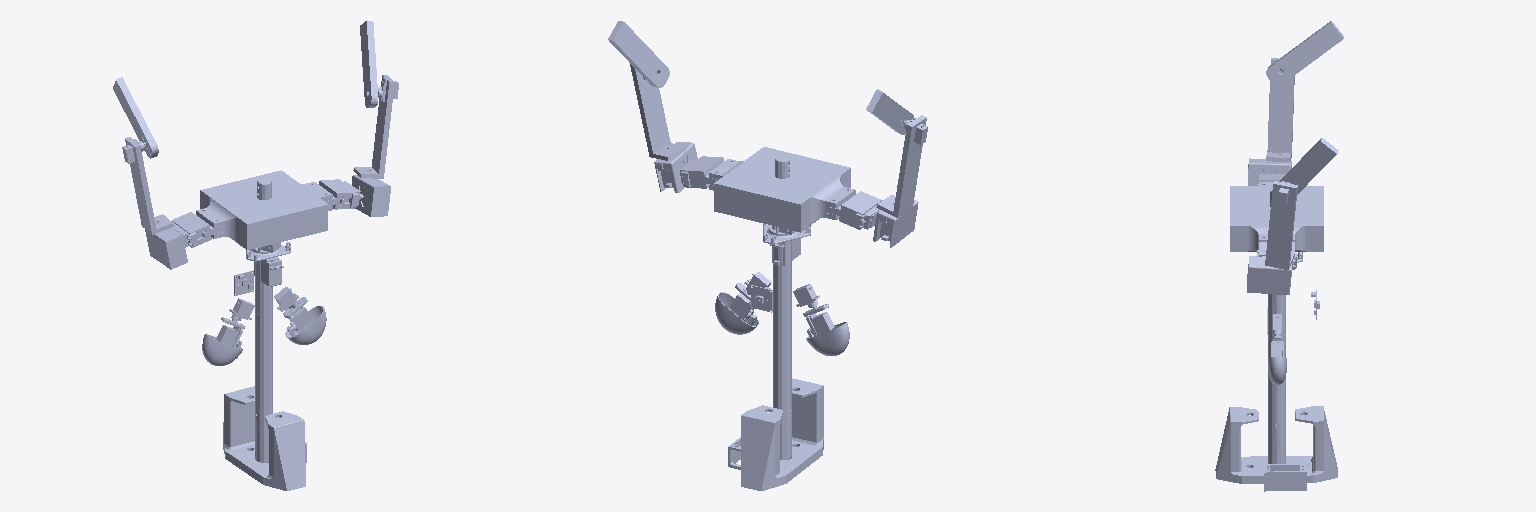
robot.urdf — bearmax_description:
<?xml version="1.0" encoding="utf-8"?>
<!-- This URDF was automatically created by SolidWorks to URDF Exporter! Originally created by [author] ([email redacted]) 
     Commit Version: 1.6.0-4-g7f85cfe  Build Version: 1.6.7995.38578
     For more information, please see http://wiki.ros.org/sw_urdf_exporter -->
<robot
  name="bearmax_description">
  <link
    name="base_link">
    <inertial>
      <origin
        xyz="-0.17187 0.041344 0.40096"
        rpy="0 0 0" />
      <mass
        value="0.50183" />
      <inertia
        ixx="0.0012683"
        ixy="9.452E-06"
        ixz="-1.8359E-05"
        iyy="0.0011449"
        iyz="-2.4791E-06"
        izz="0.0003814" />
    </inertial>
    <visual>
      <origin
        xyz="0 0 0"
        rpy="0 0 0" />
      <geometry>
        <mesh
          filename="package://bearmax_description/meshes/base_link.STL" />
      </geometry>
      <material
        name="">
        <color
          rgba="0.79216 0.81961 0.93333 1" />
      </material>
    </visual>
    <collision>
      <origin
        xyz="0 0 0"
        rpy="0 0 0" />
      <geometry>
        <mesh
          filename="package://bearmax_description/meshes/base_link.STL" />
      </geometry>
    </collision>
  </link>
  <link
    name="chassis_link">
    <inertial>
      <origin
        xyz="2.0524E-09 0.19976 9.8855E-09"
        rpy="0 0 0" />
      <mass
        value="0.057634" />
      <inertia
        ixx="0.00076957"
        ixy="-5.5733E-12"
        ixz="2.353E-12"
        iyy="7.6799E-06"
        iyz="-6.8567E-11"
        izz="0.00076959" />
    </inertial>
    <visual>
      <origin
        xyz="0 0 0"
        rpy="0 0 0" />
      <geometry>
        <mesh
          filename="package://bearmax_description/meshes/chassis_link.STL" />
      </geometry>
      <material
        name="">
        <color
          rgba="0.79216 0.81961 0.93333 1" />
      </material>
    </visual>
    <collision>
      <origin
        xyz="0 0 0"
        rpy="0 0 0" />
      <geometry>
        <mesh
          filename="package://bearmax_description/meshes/chassis_link.STL" />
      </geometry>
    </collision>
  </link>
  <joint
    name="chassis_joint"
    type="revolute">
    <origin
      xyz="-0.17961 -0.40208 0.012"
      rpy="1.5708 0 1.5708" />
    <parent
      link="base_link" />
    <child
      link="chassis_link" />
    <axis
      xyz="0 1 0" />
    <limit
      lower="-1.57"
      upper="1.57"
      effort="10"
      velocity="100" />
  </joint>
  <link
    name="torso_link">
    <inertial>
      <origin
        xyz="-0.032811 0.026124 -0.043368"
        rpy="0 0 0" />
      <mass
        value="2.6697" />
      <inertia
        ixx="0.0040411"
        ixy="-1.5861E-08"
        ixz="1.3582E-07"
        iyy="0.0069722"
        iyz="-2.7575E-08"
        izz="0.003713" />
    </inertial>
    <visual>
      <origin
        xyz="0 0 0"
        rpy="0 0 0" />
      <geometry>
        <mesh
          filename="package://bearmax_description/meshes/torso_link.STL" />
      </geometry>
      <material
        name="">
        <color
          rgba="0.79216 0.81961 0.93333 1" />
      </material>
    </visual>
    <collision>
      <origin
        xyz="0 0 0"
        rpy="0 0 0" />
      <geometry>
        <mesh
          filename="package://bearmax_description/meshes/torso_link.STL" />
      </geometry>
    </collision>
  </link>
  <joint
    name="torso_joint"
    type="fixed">
    <origin
      xyz="0 0.4005 0"
      rpy="3.1416 -1.5708 0" />
    <parent
      link="chassis_link" />
    <child
      link="torso_link" />
    <axis
      xyz="0 0 0" />
  </joint>
  <link
    name="left_arm_shoulder_link">
    <inertial>
      <origin
        xyz="0.0012848 -0.037721 -0.00075821"
        rpy="0 0 0" />
      <mass
        value="0.089647" />
      <inertia
        ixx="2.3078E-05"
        ixy="3.3014E-07"
        ixz="3.3653E-07"
        iyy="3.1141E-05"
        iyz="2.7465E-07"
        izz="1.7517E-05" />
    </inertial>
    <visual>
      <origin
        xyz="0 0 0"
        rpy="0 0 0" />
      <geometry>
        <mesh
          filename="package://bearmax_description/meshes/left_arm_shoulder_link.STL" />
      </geometry>
      <material
        name="">
        <color
          rgba="0.79216 0.81961 0.93333 1" />
      </material>
    </visual>
    <collision>
      <origin
        xyz="0 0 0"
        rpy="0 0 0" />
      <geometry>
        <mesh
          filename="package://bearmax_description/meshes/left_arm_shoulder_link.STL" />
      </geometry>
    </collision>
  </link>
  <joint
    name="left_arm_shoulder_joint"
    type="revolute">
    <origin
      xyz="0.1153 0.022388 -0.010325"
      rpy="3.1416 -0.080918 -1.3963" />
    <parent
      link="torso_link" />
    <child
      link="left_arm_shoulder_link" />
    <axis
      xyz="0 1 0" />
    <limit
      lower="-1.57"
      upper="1.57"
      effort="10"
      velocity="100" />
  </joint>
  <link
    name="left_arm_rotator_link">
    <inertial>
      <origin
        xyz="-0.065761 0.10061 -0.029311"
        rpy="0 0 0" />
      <mass
        value="0.055975" />
      <inertia
        ixx="7.2471E-05"
        ixy="2.8953E-06"
        ixz="9.0062E-07"
        iyy="6.858E-06"
        iyz="2.8953E-06"
        izz="7.2471E-05" />
    </inertial>
    <visual>
      <origin
        xyz="0 0 0"
        rpy="0 0 0" />
      <geometry>
        <mesh
          filename="package://bearmax_description/meshes/left_arm_rotator_link.STL" />
      </geometry>
      <material
        name="">
        <color
          rgba="0.79216 0.81961 0.93333 1" />
      </material>
    </visual>
    <collision>
      <origin
        xyz="0 0 0"
        rpy="0 0 0" />
      <geometry>
        <mesh
          filename="package://bearmax_description/meshes/left_arm_rotator_link.STL" />
      </geometry>
    </collision>
  </link>
  <joint
    name="left_arm_rotator_joint"
    type="revolute">
    <origin
      xyz="0 0.01 0"
      rpy="3.1416 -0.54847 1.5708" />
    <parent
      link="left_arm_shoulder_link" />
    <child
      link="left_arm_rotator_link" />
    <axis
      xyz="0 1 0" />
    <limit
      lower="-1.57"
      upper="1.57"
      effort="10"
      velocity="100" />
  </joint>
  <link
    name="left_arm_elbow_link">
    <inertial>
      <origin
        xyz="0.174014666767699 -0.0223949045310038 0.0591303961422717"
        rpy="0 0 0" />
      <mass
        value="0.0356564342065887" />
      <inertia
        ixx="2.91755755317523E-06"
        ixy="5.70063169883685E-08"
        ixz="4.98690647695969E-20"
        iyy="4.3073139448888E-05"
        iyz="-5.9292306307801E-21"
        izz="4.0731009181031E-05" />
    </inertial>
    <visual>
      <origin
        xyz="0 0 0"
        rpy="0 0 0" />
      <geometry>
        <mesh
          filename="package://bearmax_description/meshes/left_arm_elbow_link.STL" />
      </geometry>
      <material
        name="">
        <color
          rgba="0.792156862745098 0.819607843137255 0.933333333333333 1" />
      </material>
    </visual>
    <collision>
      <origin
        xyz="0 0 0"
        rpy="0 0 0" />
      <geometry>
        <mesh
          filename="package://bearmax_description/meshes/left_arm_elbow_link.STL" />
      </geometry>
    </collision>
  </link>
  <joint
    name="left_arm_elbow_joint"
    type="revolute">
    <origin
      xyz="-0.020548 0 -0.012555"
      rpy="2.2751 -0.38212 1.9844" />
    <parent
      link="left_arm_rotator_link" />
    <child
      link="left_arm_elbow_link" />
    <axis
      xyz="0 1 0" />
    <limit
      lower="-1.57"
      upper="1.57"
      effort="10"
      velocity="100" />
  </joint>
  <link
    name="right_arm_shoulder_link">
    <inertial>
      <origin
        xyz="0.00074988 0.0012707 -0.018533"
        rpy="0 0 0" />
      <mass
        value="0.090643" />
      <inertia
        ixx="1.756E-05"
        ixy="-3.3653E-07"
        ixz="-2.7465E-07"
        iyy="2.312E-05"
        iyz="3.3014E-07"
        izz="3.1224E-05" />
    </inertial>
    <visual>
      <origin
        xyz="0 0 0"
        rpy="0 0 0" />
      <geometry>
        <mesh
          filename="package://bearmax_description/meshes/right_arm_shoulder_link.STL" />
      </geometry>
      <material
        name="">
        <color
          rgba="0.79216 0.81961 0.93333 1" />
      </material>
    </visual>
    <collision>
      <origin
        xyz="0 0 0"
        rpy="0 0 0" />
      <geometry>
        <mesh
          filename="package://bearmax_description/meshes/right_arm_shoulder_link.STL" />
      </geometry>
    </collision>
  </link>
  <joint
    name="right_arm_shoulder_joint"
    type="revolute">
    <origin
      xyz="-0.14497 0.027824 -0.0102"
      rpy="1.5708 -1.5367 1.3963" />
    <parent
      link="torso_link" />
    <child
      link="right_arm_shoulder_link" />
    <axis
      xyz="0 1 0" />
    <limit
      lower="-1.57"
      upper="1.57"
      effort="10"
      velocity="100" />
  </joint>
  <link
    name="right_arm_rotator_link">
    <inertial>
      <origin
        xyz="0.00821004209420206 -0.0688462147120627 -0.00821004209420173"
        rpy="0 0 0" />
      <mass
        value="0.05597466334379" />
      <inertia
        ixx="7.247118652597E-05"
        ixy="2.83145992905539E-06"
        ixz="-9.00615014902901E-07"
        iyy="6.85800622969299E-06"
        iyz="-2.83145992905515E-06"
        izz="7.247118652597E-05" />
    </inertial>
    <visual>
      <origin
        xyz="0 0 0"
        rpy="0 0 0" />
      <geometry>
        <mesh
          filename="package://bearmax_description/meshes/right_arm_rotator_link.STL" />
      </geometry>
      <material
        name="">
        <color
          rgba="0.792156862745098 0.819607843137255 0.933333333333333 1" />
      </material>
    </visual>
    <collision>
      <origin
        xyz="0 0 0"
        rpy="0 0 0" />
      <geometry>
        <mesh
          filename="package://bearmax_description/meshes/right_arm_rotator_link.STL" />
      </geometry>
    </collision>
  </link>
  <joint
    name="right_arm_rotator_joint"
    type="revolute">
    <origin
      xyz="0.012 0.0319 -0.019941"
      rpy="0 0.86598 3.1416" />
    <parent
      link="right_arm_shoulder_link" />
    <child
      link="right_arm_rotator_link" />
    <axis
      xyz="0 1 0" />
    <limit
      lower="-1.57"
      upper="1.57"
      effort="10"
      velocity="100" />
  </joint>
  <link
    name="right_arm_elbow_link">
    <inertial>
      <origin
        xyz="0.0405860587058997 0.00726331258179902 1.66533453693773E-16"
        rpy="0 0 0" />
      <mass
        value="0.0356564342065888" />
      <inertia
        ixx="2.91755755317524E-06"
        ixy="5.7006316988408E-08"
        ixz="2.57286257728494E-20"
        iyy="4.30731394488881E-05"
        iyz="-2.96461531539005E-21"
        izz="4.07310091810311E-05" />
    </inertial>
    <visual>
      <origin
        xyz="0 0 0"
        rpy="0 0 0" />
      <geometry>
        <mesh
          filename="package://bearmax_description/meshes/right_arm_elbow_link.STL" />
      </geometry>
      <material
        name="">
        <color
          rgba="0.792156862745098 0.819607843137255 0.933333333333333 1" />
      </material>
    </visual>
    <collision>
      <origin
        xyz="0 0 0"
        rpy="0 0 0" />
      <geometry>
        <mesh
          filename="package://bearmax_description/meshes/right_arm_elbow_link.STL" />
      </geometry>
    </collision>
  </link>
  <joint
    name="right_arm_elbow_joint"
    type="revolute">
    <origin
      xyz="-0.0018031 -0.123 0.0018031"
      rpy="2.1424 0.57212 -2.2705" />
    <parent
      link="right_arm_rotator_link" />
    <child
      link="right_arm_elbow_link" />
    <axis
      xyz="0 1 0" />
    <limit
      lower="-1.57"
      upper="1.57"
      effort="10"
      velocity="100" />
  </joint>
  <link
    name="head_platform_link">
    <inertial>
      <origin
        xyz="-7.31297958072585E-05 0.0396567026441625 0.00529007551073074"
        rpy="0 0 0" />
      <mass
        value="0.0601949035323982" />
      <inertia
        ixx="1.25623690370595E-05"
        ixy="8.6971770268358E-10"
        ixz="4.06002667064018E-08"
        iyy="1.23679785179065E-05"
        iyz="-6.29137809995314E-08"
        izz="9.6259813450868E-06" />
    </inertial>
    <visual>
      <origin
        xyz="0 0 0"
        rpy="0 0 0" />
      <geometry>
        <mesh
          filename="package://bearmax_description/meshes/head_platform_link.STL" />
      </geometry>
      <material
        name="">
        <color
          rgba="0.792156862745098 0.819607843137255 0.933333333333333 1" />
      </material>
    </visual>
    <collision>
      <origin
        xyz="0 0 0"
        rpy="0 0 0" />
      <geometry>
        <mesh
          filename="package://bearmax_description/meshes/head_platform_link.STL" />
      </geometry>
    </collision>
  </link>
  <joint
    name="head_platform_joint"
    type="fixed">
    <origin
      xyz="0 0.074456 0"
      rpy="3.1416 0 3.1416" />
    <parent
      link="torso_link" />
    <child
      link="head_platform_link" />
    <axis
      xyz="0 0 0" />
  </joint>
  <link
    name="left_ear_rotator_link">
    <inertial>
      <origin
        xyz="0.00502691845975367 0.0139045164812473 5.9612828079425E-07"
        rpy="0 0 0" />
      <mass
        value="0.0328637128190072" />
      <inertia
        ixx="5.69258309184449E-06"
        ixy="1.36073337822786E-07"
        ixz="-3.82205780616497E-10"
        iyy="3.92546450693281E-06"
        iyz="6.88676185297206E-10"
        izz="6.89654509433495E-06" />
    </inertial>
    <visual>
      <origin
        xyz="0 0 0"
        rpy="0 0 0" />
      <geometry>
        <mesh
          filename="package://bearmax_description/meshes/left_ear_rotator_link.STL" />
      </geometry>
      <material
        name="">
        <color
          rgba="0.792156862745098 0.819607843137255 0.933333333333333 1" />
      </material>
    </visual>
    <collision>
      <origin
        xyz="0 0 0"
        rpy="0 0 0" />
      <geometry>
        <mesh
          filename="package://bearmax_description/meshes/left_ear_rotator_link.STL" />
      </geometry>
    </collision>
  </link>
  <joint
    name="left_ear_rotator_joint"
    type="revolute">
    <origin
      xyz="-0.068776 0.11753 -0.0008258"
      rpy="-0.00010149 -0.0069114 -1.0472" />
    <parent
      link="head_platform_link" />
    <child
      link="left_ear_rotator_link" />
    <axis
      xyz="0 1 0" />
    <limit
      lower="-1.57"
      upper="1.57"
      effort="10"
      velocity="100" />
  </joint>
  <link
    name="left_ear_pitch_link">
    <inertial>
      <origin
        xyz="-0.0125749268028691 -0.0153351392261876 4.07502354082823E-08"
        rpy="0 0 0" />
      <mass
        value="0.0244707690957446" />
      <inertia
        ixx="3.95605162092786E-06"
        ixy="-7.83673188173205E-08"
        ixz="3.26635155513733E-11"
        iyy="2.68690704961205E-06"
        iyz="3.32835460837766E-10"
        izz="5.27403767528447E-06" />
    </inertial>
    <visual>
      <origin
        xyz="0 0 0"
        rpy="0 0 0" />
      <geometry>
        <mesh
          filename="package://bearmax_description/meshes/left_ear_pitch_link.STL" />
      </geometry>
      <material
        name="">
        <color
          rgba="0.792156862745098 0.819607843137255 0.933333333333333 1" />
      </material>
    </visual>
    <collision>
      <origin
        xyz="0 0 0"
        rpy="0 0 0" />
      <geometry>
        <mesh
          filename="package://bearmax_description/meshes/left_ear_pitch_link.STL" />
      </geometry>
    </collision>
  </link>
  <joint
    name="left_ear_pitch_joint"
    type="revolute">
    <origin
      xyz="-0.005175 0.0299 0"
      rpy="-3.1416 -0.0069114 3.1416" />
    <parent
      link="left_ear_rotator_link" />
    <child
      link="left_ear_pitch_link" />
    <axis
      xyz="0 1 0" />
    <limit
      lower="-1.57"
      upper="1.57"
      effort="10"
      velocity="100" />
  </joint>
  <link
    name="right_ear_rotator_link">
    <inertial>
      <origin
        xyz="0.00355451410535768 0.018498083436896 5.92492162221347E-07"
        rpy="0 0 0" />
      <mass
        value="0.0328637181166499" />
      <inertia
        ixx="3.92546786501222E-06"
        ixy="-1.36072839709065E-07"
        ixz="6.84900408034018E-10"
        iyy="5.6925929857096E-06"
        iyz="3.80134284652457E-10"
        izz="6.8965541820296E-06" />
    </inertial>
    <visual>
      <origin
        xyz="0 0 0"
        rpy="0 0 0" />
      <geometry>
        <mesh
          filename="package://bearmax_description/meshes/right_ear_rotator_link.STL" />
      </geometry>
      <material
        name="">
        <color
          rgba="0.792156862745098 0.819607843137255 0.933333333333333 1" />
      </material>
    </visual>
    <collision>
      <origin
        xyz="0 0 0"
        rpy="0 0 0" />
      <geometry>
        <mesh
          filename="package://bearmax_description/meshes/right_ear_rotator_link.STL" />
      </geometry>
    </collision>
  </link>
  <joint
    name="right_ear_rotator_joint"
    type="revolute">
    <origin
      xyz="0.048051 0.10233 0.00066426"
      rpy="3.1347 -0.00010149 2.618" />
    <parent
      link="head_platform_link" />
    <child
      link="right_ear_rotator_link" />
    <axis
      xyz="0 1 0" />
    <limit
      lower="-1.57"
      upper="1.57"
      effort="10"
      velocity="100" />
  </joint>
  <link
    name="right_ear_pitch_link">
    <inertial>
      <origin
        xyz="-0.0125750469388256 -0.0153350824517368 3.54830002047279E-08"
        rpy="0 0 0" />
      <mass
        value="0.0244706931114196" />
      <inertia
        ixx="3.95601959100734E-06"
        ixy="-7.83656460052213E-08"
        ixz="3.58100063920109E-11"
        iyy="2.68688486565731E-06"
        iyz="3.30338149730035E-10"
        izz="5.27397751288778E-06" />
    </inertial>
    <visual>
      <origin
        xyz="0 0 0"
        rpy="0 0 0" />
      <geometry>
        <mesh
          filename="package://bearmax_description/meshes/right_ear_pitch_link.STL" />
      </geometry>
      <material
        name="">
        <color
          rgba="0.792156862745098 0.819607843137255 0.933333333333333 1" />
      </material>
    </visual>
    <collision>
      <origin
        xyz="0 0 0"
        rpy="0 0 0" />
      <geometry>
        <mesh
          filename="package://bearmax_description/meshes/right_ear_pitch_link.STL" />
      </geometry>
    </collision>
  </link>
  <joint
    name="right_ear_pitch_joint"
    type="revolute">
    <origin
      xyz="0.01955 0.0287 0"
      rpy="-3.1416 -0.0069114 1.5708" />
    <parent
      link="right_ear_rotator_link" />
    <child
      link="right_ear_pitch_link" />
    <axis
      xyz="0 1 0" />
    <limit
      lower="-1.57"
      upper="1.57"
      effort="10"
      velocity="100" />
  </joint>
  <link
    name="camera_link">
    <inertial>
      <origin
        xyz="-0.00029051 0.00086498 0.00090745"
        rpy="0 0 0" />
      <mass
        value="0.0022578" />
      <inertia
        ixx="1.6797E-07"
        ixy="-3.3968E-09"
        ixz="1.6789E-08"
        iyy="3.0186E-07"
        iyz="8.0263E-09"
        izz="1.4969E-07" />
    </inertial>
    <visual>
      <origin
        xyz="0 0 0"
        rpy="0 0 0" />
      <geometry>
        <mesh
          filename="package://bearmax_description/meshes/camera_link.STL" />
      </geometry>
      <material
        name="">
        <color
          rgba="0.79216 0.81961 0.93333 1" />
      </material>
    </visual>
    <collision>
      <origin
        xyz="0 0 0"
        rpy="0 0 0" />
      <geometry>
        <mesh
          filename="package://bearmax_description/meshes/camera_link.STL" />
      </geometry>
    </collision>
  </link>
  <joint
    name="camera_joint"
    type="fixed">
    <origin
      xyz="0.0007478 0.0791 -0.054095"
      rpy="-1.5708 0.013823 3.1416" />
    <parent
      link="head_platform_link" />
    <child
      link="camera_link" />
    <axis
      xyz="0 0 0" />
  </joint>
</robot>

--- Render facts (derived) ---
The picture shows the robot from 3 angles, left to right: view 1: azimuth 30°, elevation 25°; view 2: azimuth 150°, elevation 25°; view 3: azimuth 270°, elevation 25°; orthographic projection.
Model bearmax_description with 15 links and 14 joints (11 revolute, 3 fixed), rooted at base_link, posed every joint at zero.
Links seen in each view (by area): view 1: torso_link, base_link, chassis_link, head_platform_link, right_arm_rotator_link, left_arm_rotator_link, right_arm_shoulder_link, left_arm_shoulder_link, left_arm_elbow_link, right_arm_elbow_link, left_ear_pitch_link, right_ear_pitch_link (+1 smaller); view 2: torso_link, base_link, chassis_link, right_arm_rotator_link, left_arm_rotator_link, left_arm_elbow_link, head_platform_link, right_arm_shoulder_link, left_arm_shoulder_link, right_arm_elbow_link, left_ear_pitch_link, right_ear_pitch_link (+1 smaller); view 3: base_link, torso_link, left_arm_rotator_link, chassis_link, right_arm_rotator_link, right_arm_elbow_link, left_arm_shoulder_link, left_arm_elbow_link, right_arm_shoulder_link.
Boxes of the visible links, x1=… form: torso_link: x1=172, y1=170, x2=361, y2=252; base_link: x1=223, y1=386, x2=306, y2=490; chassis_link: x1=255, y1=261, x2=272, y2=462; head_platform_link: x1=229, y1=242, x2=298, y2=320; right_arm_rotator_link: x1=122, y1=137, x2=173, y2=234; left_arm_rotator_link: x1=353, y1=75, x2=398, y2=178; right_arm_shoulder_link: x1=145, y1=228, x2=187, y2=269; left_arm_shoulder_link: x1=352, y1=175, x2=390, y2=216; left_arm_elbow_link: x1=360, y1=20, x2=377, y2=107; right_arm_elbow_link: x1=113, y1=77, x2=158, y2=158; left_ear_pitch_link: x1=285, y1=306, x2=326, y2=344; right_ear_pitch_link: x1=202, y1=334, x2=242, y2=365; torso_link: x1=680, y1=147, x2=881, y2=234; base_link: x1=728, y1=378, x2=823, y2=490; chassis_link: x1=773, y1=240, x2=791, y2=459; right_arm_rotator_link: x1=876, y1=115, x2=927, y2=217; left_arm_rotator_link: x1=630, y1=64, x2=685, y2=160; left_arm_elbow_link: x1=608, y1=21, x2=669, y2=87; head_platform_link: x1=744, y1=223, x2=819, y2=307; right_arm_shoulder_link: x1=873, y1=200, x2=918, y2=247; left_arm_shoulder_link: x1=654, y1=142, x2=697, y2=192; right_arm_elbow_link: x1=866, y1=89, x2=913, y2=134; left_ear_pitch_link: x1=715, y1=292, x2=758, y2=334; right_ear_pitch_link: x1=806, y1=322, x2=849, y2=355; base_link: x1=1215, y1=406, x2=1337, y2=491; torso_link: x1=1230, y1=174, x2=1323, y2=269; left_arm_rotator_link: x1=1265, y1=181, x2=1297, y2=269; chassis_link: x1=1268, y1=294, x2=1285, y2=463; right_arm_rotator_link: x1=1266, y1=58, x2=1294, y2=161; right_arm_elbow_link: x1=1266, y1=21, x2=1343, y2=85; left_arm_shoulder_link: x1=1247, y1=256, x2=1291, y2=294; left_arm_elbow_link: x1=1279, y1=138, x2=1338, y2=194; right_arm_shoulder_link: x1=1248, y1=158, x2=1291, y2=185.
Size in the robot's own frame: 0.4398 by 0.1802 by 0.611 metres.
15 mesh visuals loaded from 15 distinct referenced files (15 binary STL).